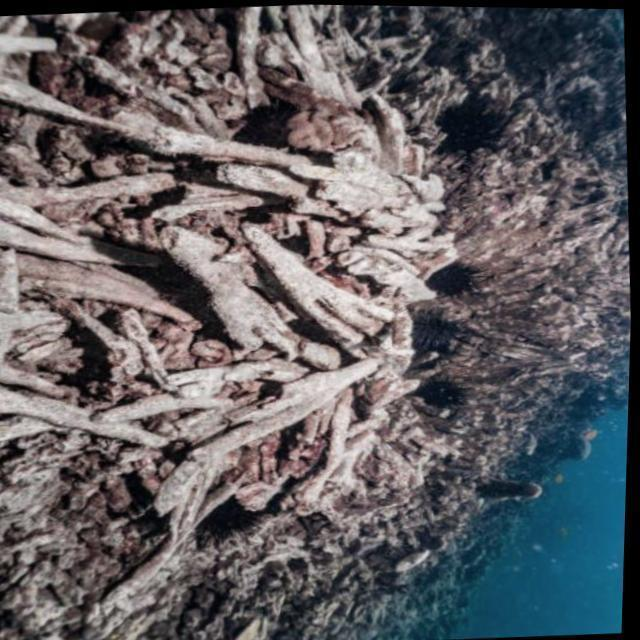Dead Coral: (27, 47, 543, 585)
